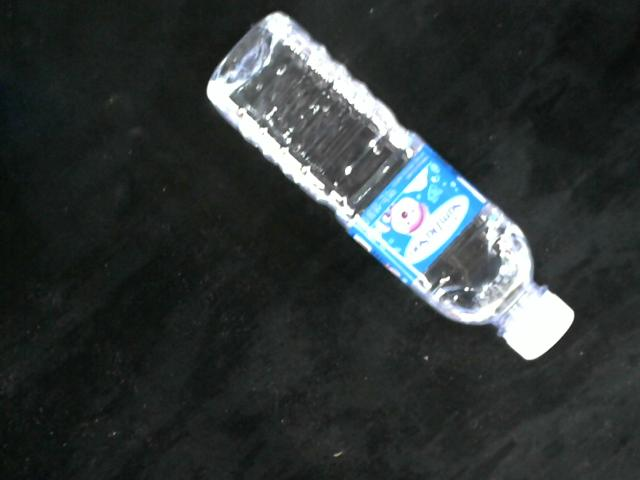bottle: (204, 11, 577, 364)
